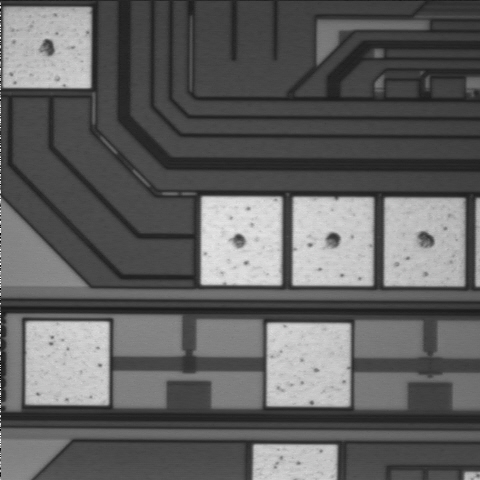pad: (201, 197, 282, 285), (293, 197, 373, 285), (4, 8, 91, 88), (385, 198, 464, 286), (26, 322, 109, 405), (267, 323, 350, 406)
